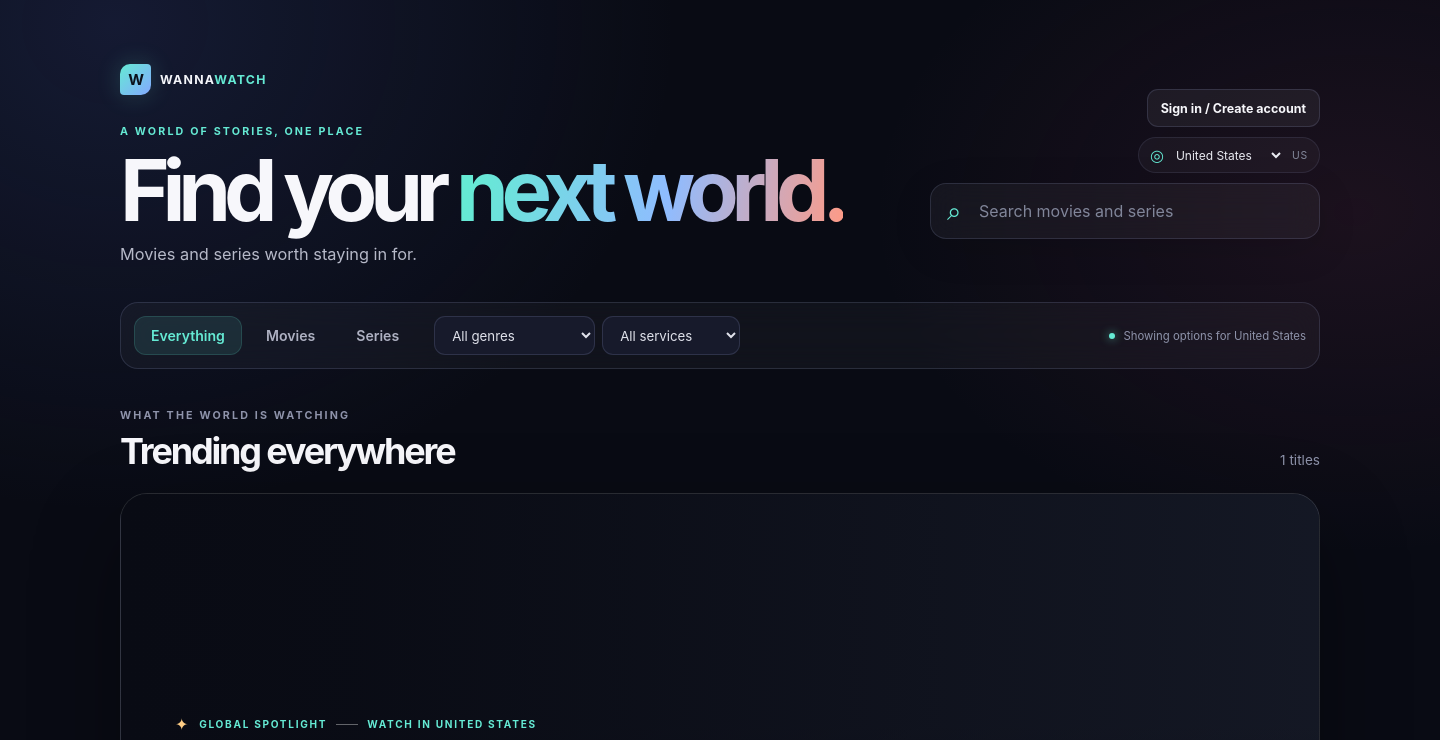
Test: discovery page › reloads the feed with the selected genre and country
The image size is (1440, 740).
Select "Drama" in the dropdown named "Filter by genre" at (515, 336), box [434, 316, 595, 355]
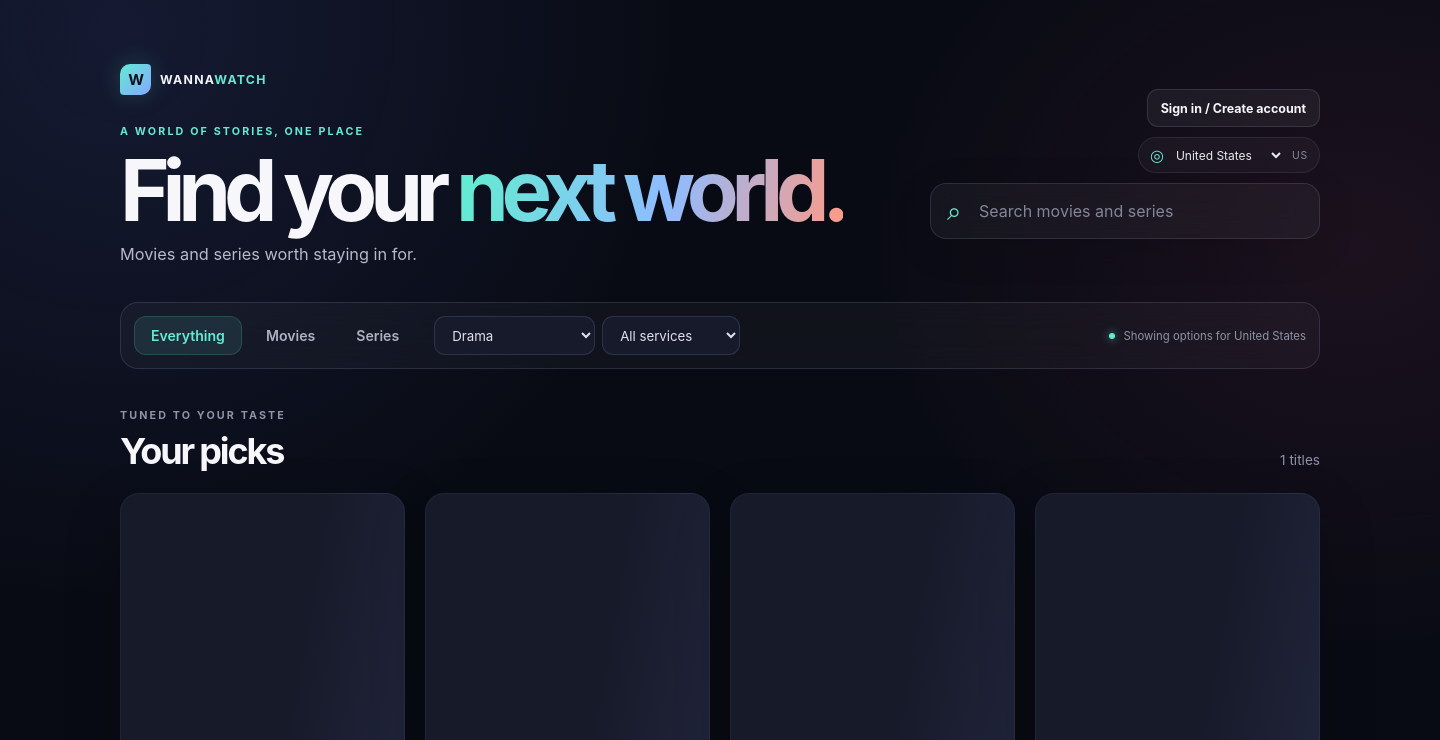
Select "United Kingdom" in the dropdown named "Choose your country or region" at (1228, 155), box [1172, 147, 1284, 164]
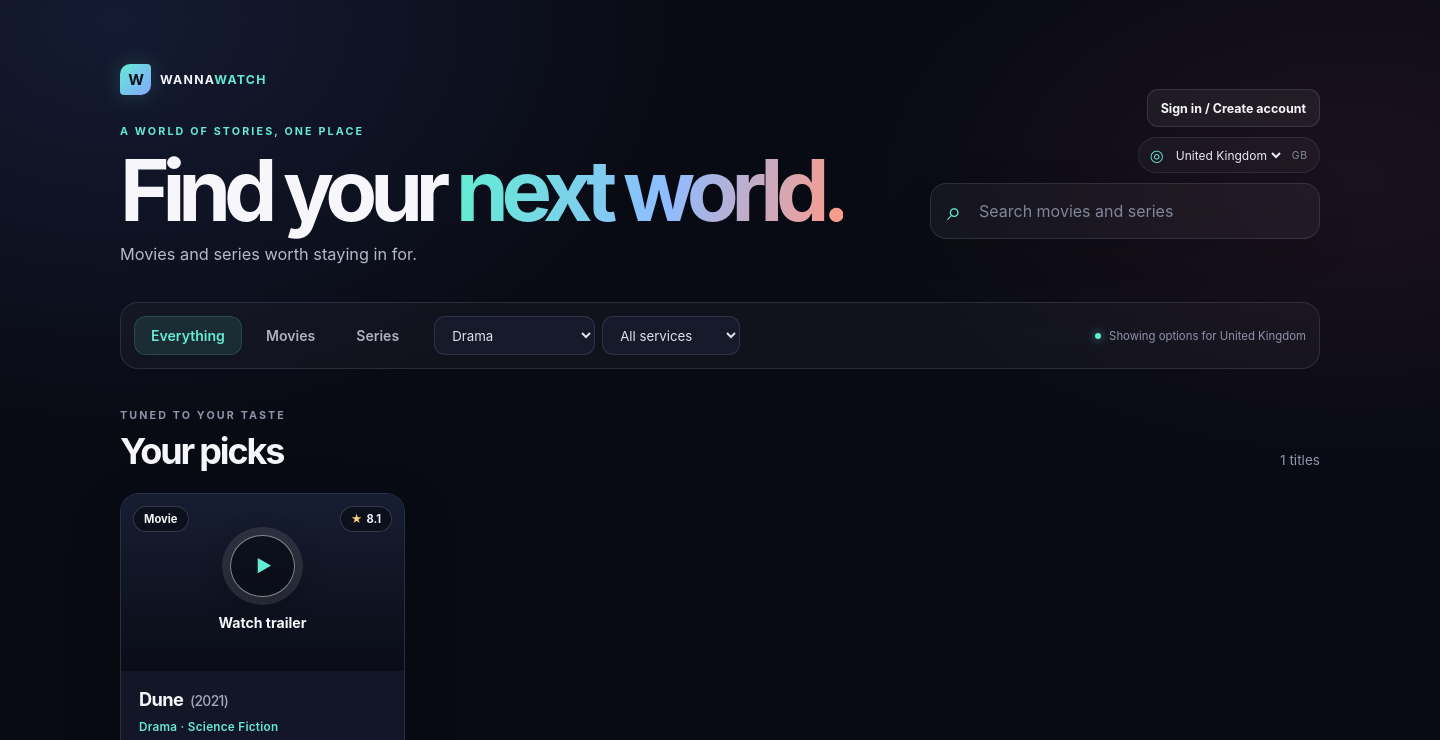
Now the text "Showing options for United Kingdom" is shown, box [1095, 329, 1306, 343]
